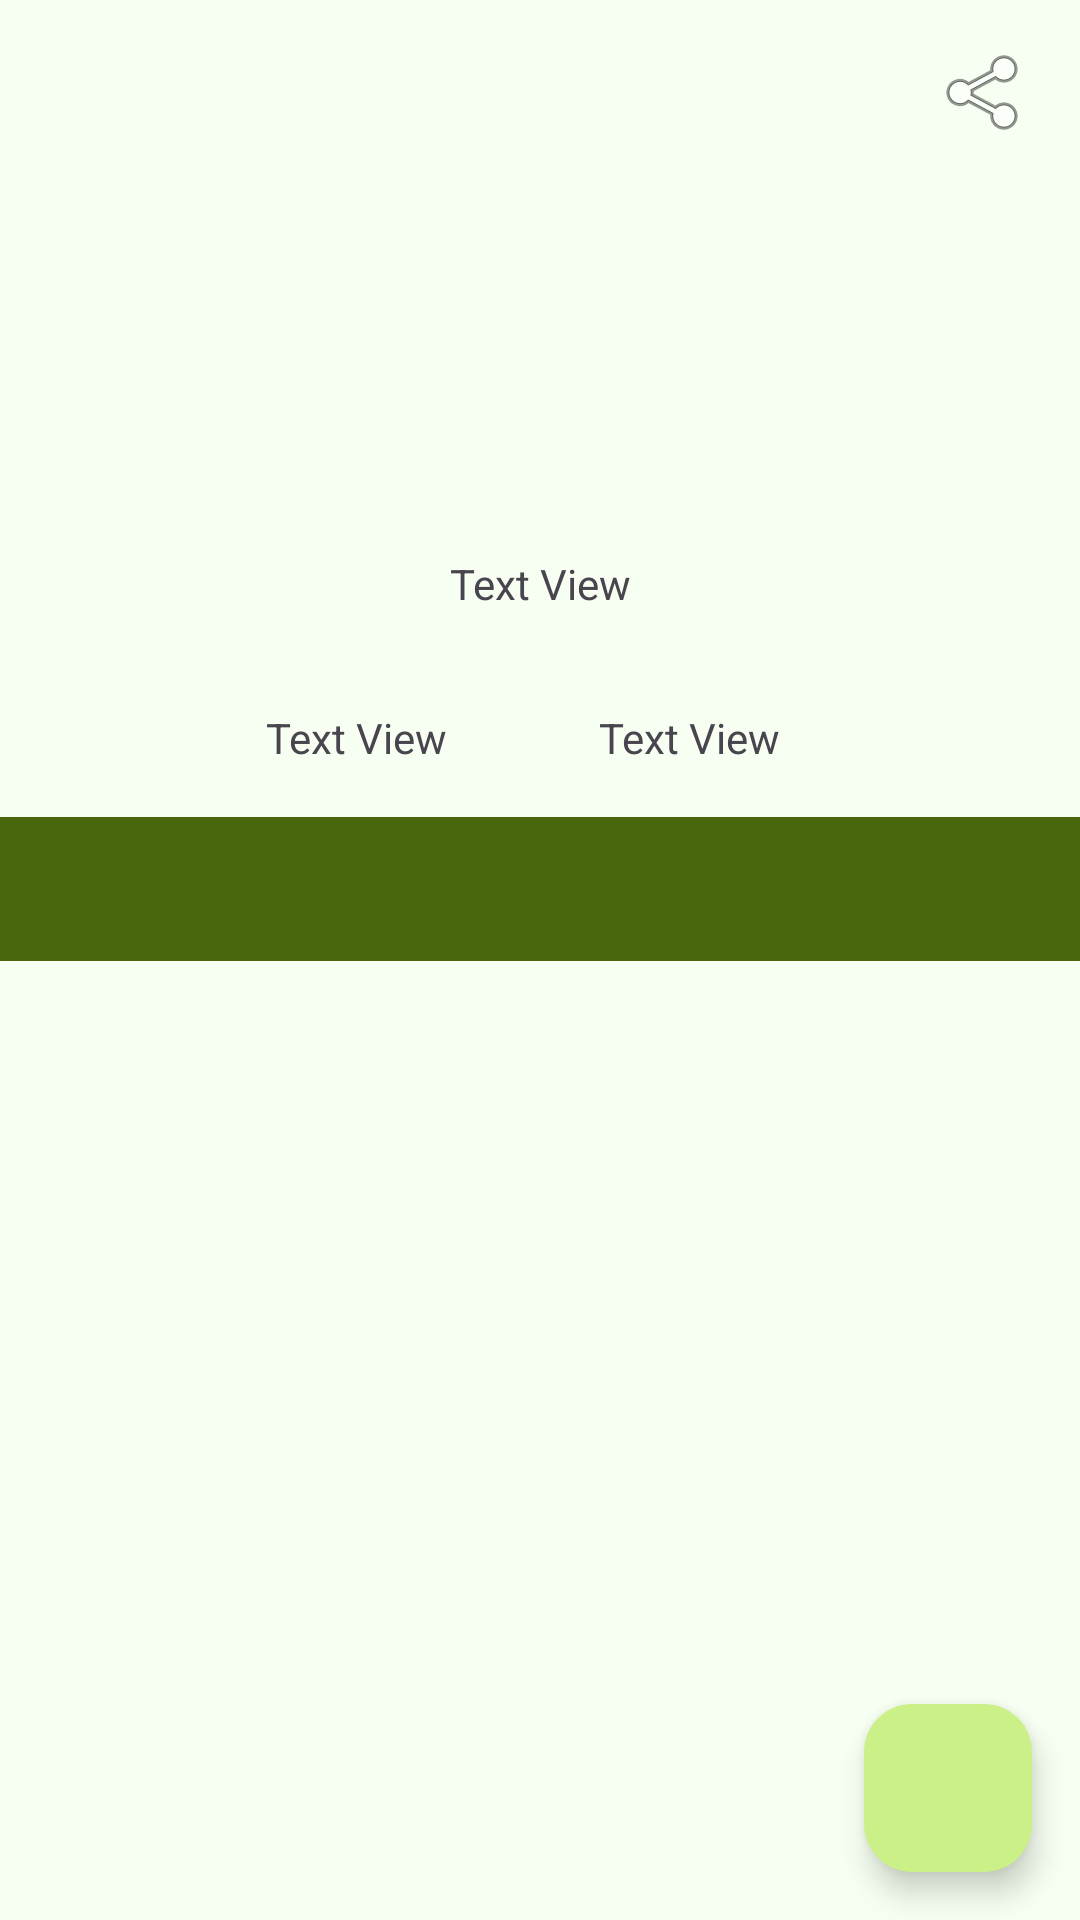

Icons on this 1080×1920 Android screen, each with its box as BBox(x1, y1, x2, y2):
share: BBox(946, 55, 1018, 130)
